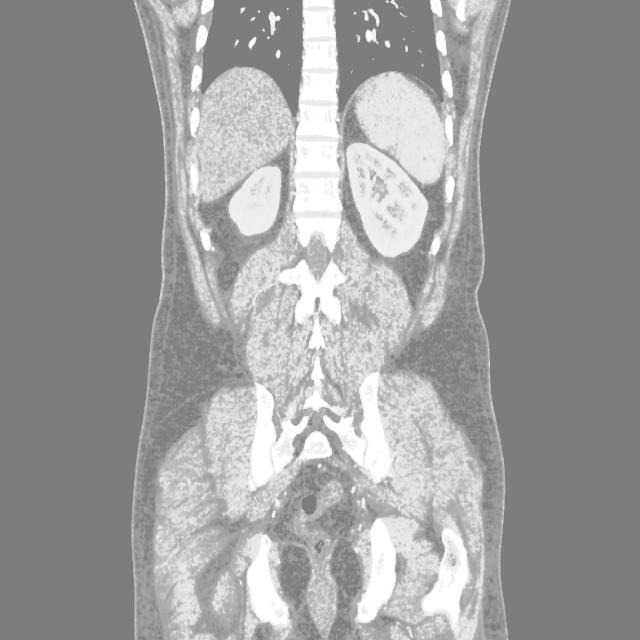NORMAL: (124, 73, 513, 472)
